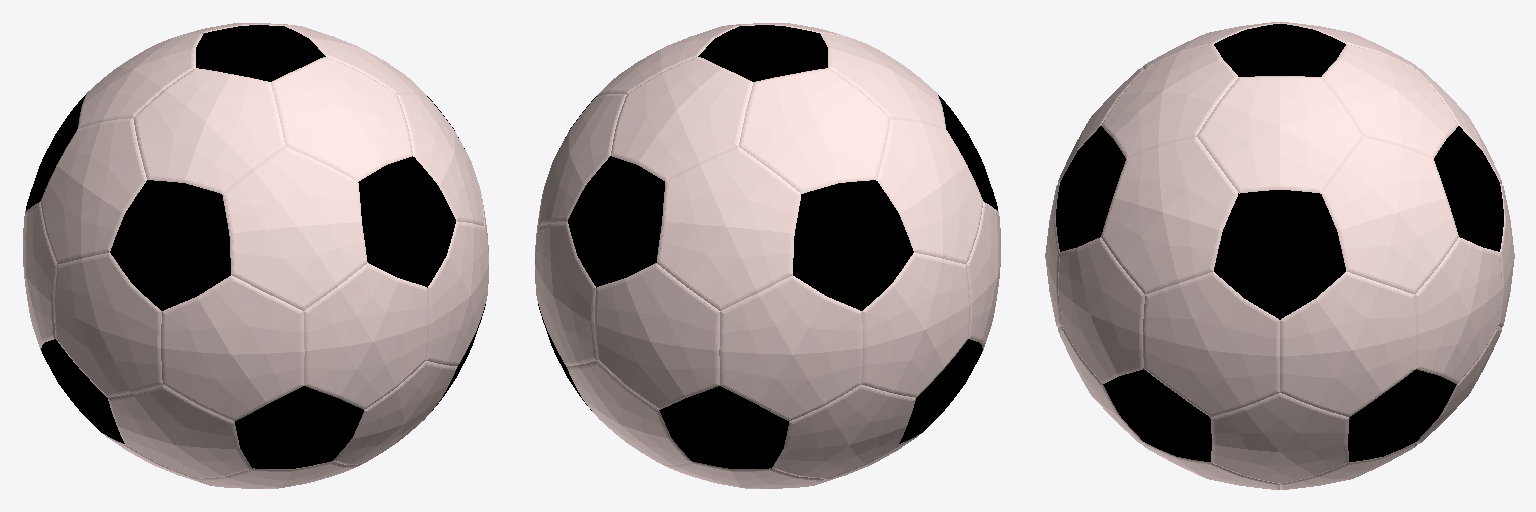
The model's file is ball.obj.
3 views of the same model, side by side, from view 1: azimuth 30°, elevation 25°; view 2: azimuth 150°, elevation 25°; view 3: azimuth 270°, elevation 25° (orthographic).
Parts seen in each view (by area): view 1: Football_ball; view 2: Football_ball; view 3: Football_ball.
Boxes of the visible parts, box(x1,y1,x2,y2) form: Football_ball: box(23, 23, 488, 488); Football_ball: box(535, 23, 1000, 488); Football_ball: box(1045, 22, 1514, 489).
Bounding box in the file's own units: 1.95 × 1.96 × 1.95.